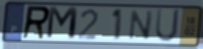1: (111, 8, 124, 42)
2: (77, 7, 101, 41)
M: (45, 5, 81, 42)
N: (126, 9, 156, 41)
R: (20, 5, 52, 41)
U: (153, 8, 183, 44)
